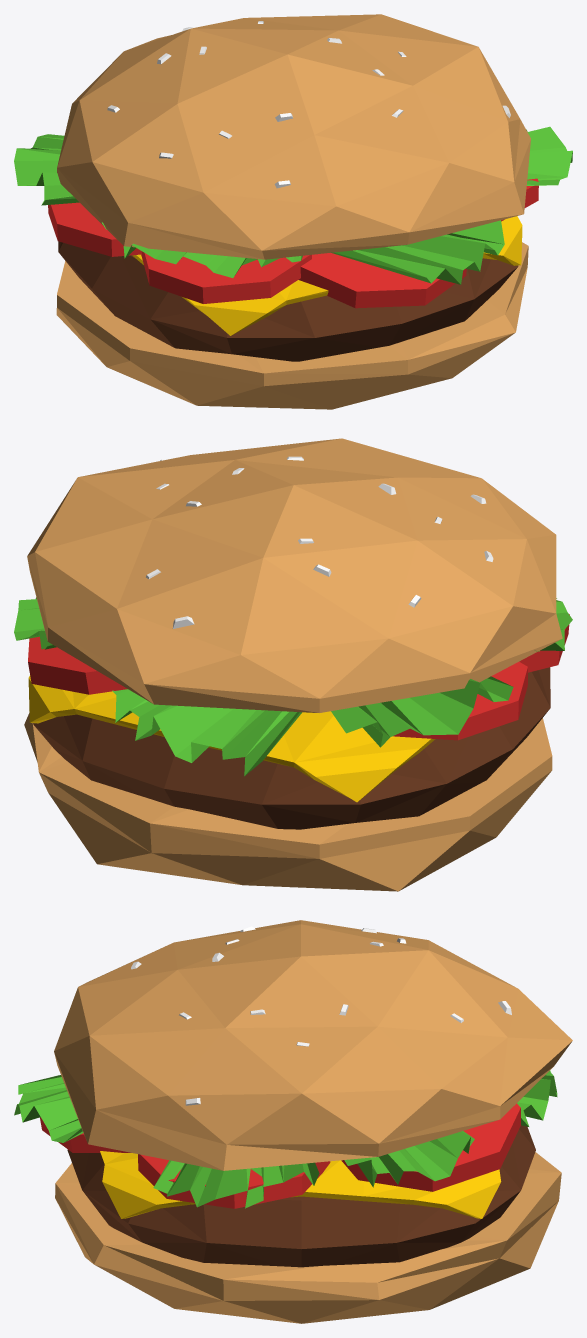
The model's file is Burger.obj.
3 renders of one model, top to bottom at view 1: azimuth 30°, elevation 25°; view 2: azimuth 150°, elevation 25°; view 3: azimuth 270°, elevation 25°, orthographic. The views are drawn at different scales.
Visible parts, largest first — view 1: Burger_LightYellow, Burger_Brown, Burger_Red, Burger_LightGreen, Burger_Cheese, Burger_White; view 2: Burger_LightYellow, Burger_Brown, Burger_LightGreen, Burger_Cheese, Burger_Red, Burger_White; view 3: Burger_LightYellow, Burger_Brown, Burger_LightGreen, Burger_Cheese, Burger_Red, Burger_White.
Part boxes in pixels (bbox=[...]): Burger_LightYellow: bbox=[56, 14, 530, 409]; Burger_Brown: bbox=[58, 241, 518, 361]; Burger_Red: bbox=[48, 178, 538, 308]; Burger_LightGreen: bbox=[14, 126, 572, 284]; Burger_Cheese: bbox=[132, 216, 522, 335]; Burger_White: bbox=[107, 21, 510, 188]; Burger_LightYellow: bbox=[24, 438, 562, 891]; Burger_Brown: bbox=[33, 667, 550, 829]; Burger_LightGreen: bbox=[14, 597, 572, 776]; Burger_Cheese: bbox=[28, 675, 435, 802]; Burger_Red: bbox=[28, 614, 569, 740]; Burger_White: bbox=[146, 456, 493, 628]; Burger_LightYellow: bbox=[54, 920, 572, 1323]; Burger_Brown: bbox=[67, 1125, 535, 1267]; Burger_LightGreen: bbox=[14, 1070, 557, 1208]; Burger_Cheese: bbox=[100, 1151, 501, 1218]; Burger_Red: bbox=[40, 1103, 520, 1208]; Burger_White: bbox=[131, 926, 511, 1105].
Size of the model in its own units: 1.65 by 1.07 by 1.7.
